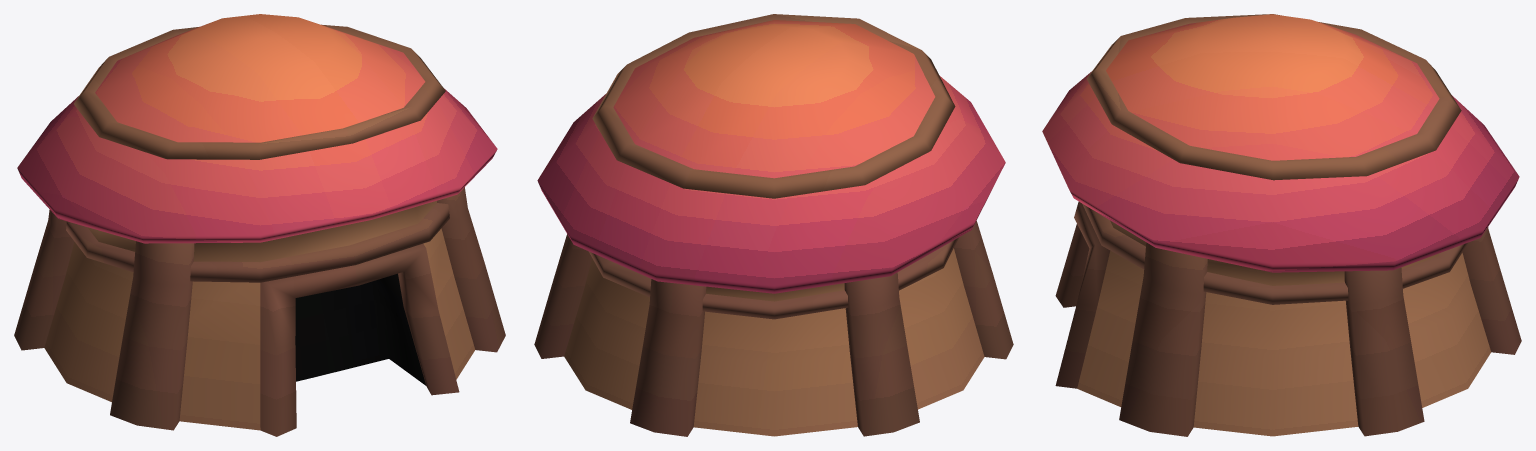
File: model_hut_02.fbx
3 renders of one model, left to right at view 1: azimuth 30°, elevation 25°; view 2: azimuth 150°, elevation 25°; view 3: azimuth 270°, elevation 25°, orthographic. The views are drawn at different scales.
Parts seen in each view (by area): view 1: hut_02_geo; view 2: hut_02_geo; view 3: hut_02_geo.
Part boxes in pixels (<box>): hut_02_geo: <box>14,14,505,436</box>; hut_02_geo: <box>534,14,1013,436</box>; hut_02_geo: <box>1042,14,1521,436</box>.
Size of the model in its own units: 35.93 by 24.77 by 35.87.
